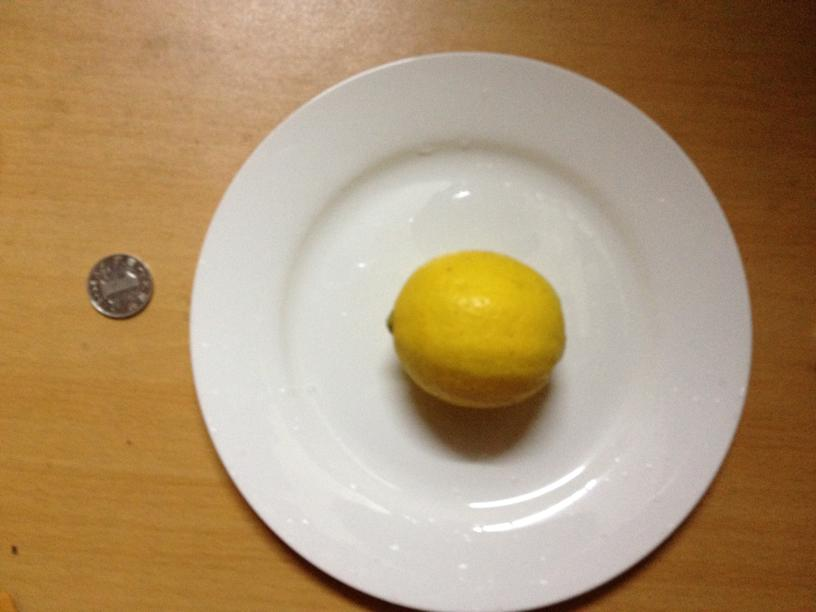coin: (87, 255, 153, 319)
lemon: (381, 253, 565, 408)
